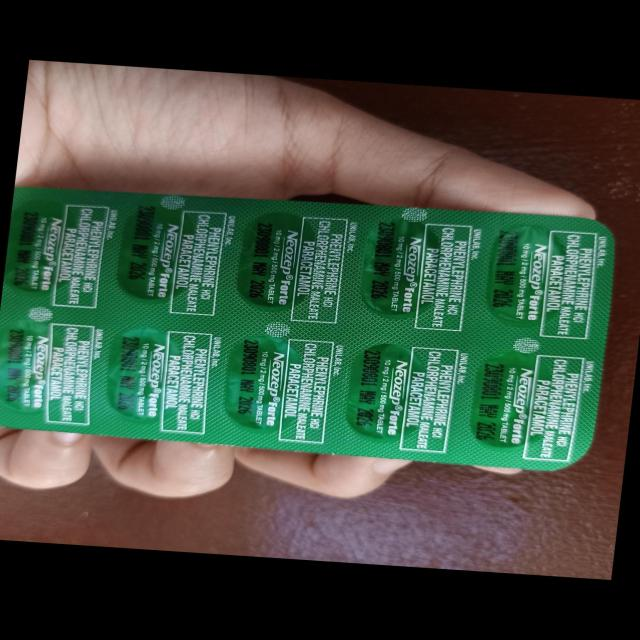Neozep_Strip: (0, 174, 627, 486)
